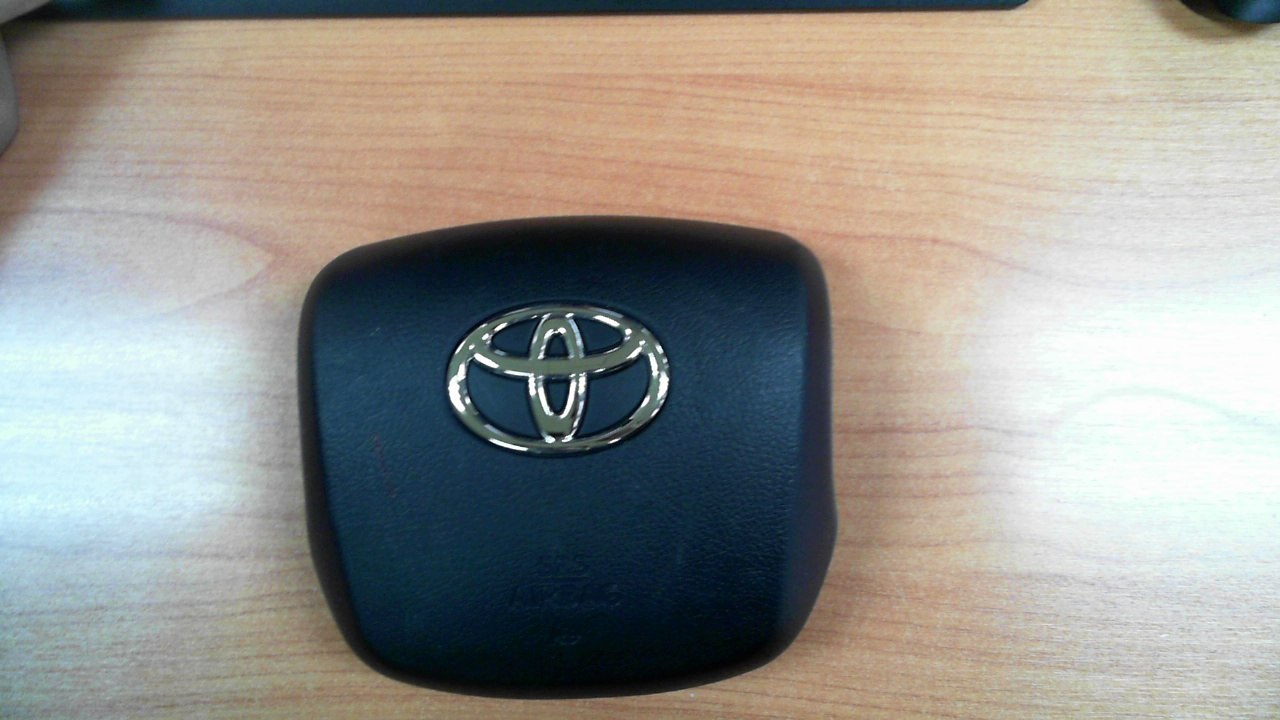Airbag: (291, 223, 832, 699)
Toyota: (446, 303, 671, 454)
